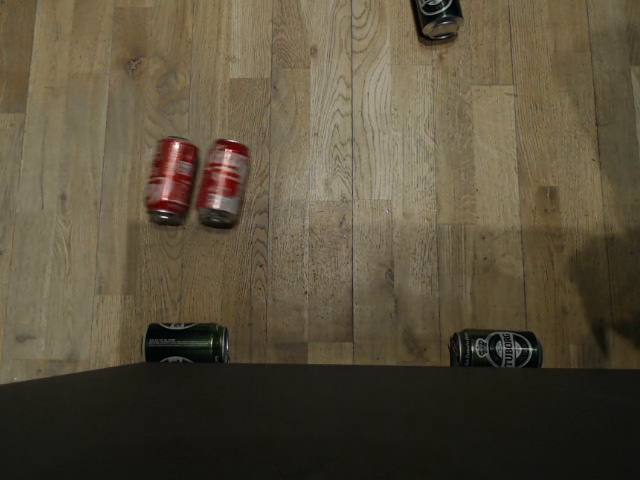beer: (138, 319, 232, 364), (450, 328, 545, 370), (408, 0, 469, 44)
cola: (142, 135, 200, 222), (195, 137, 251, 226)
